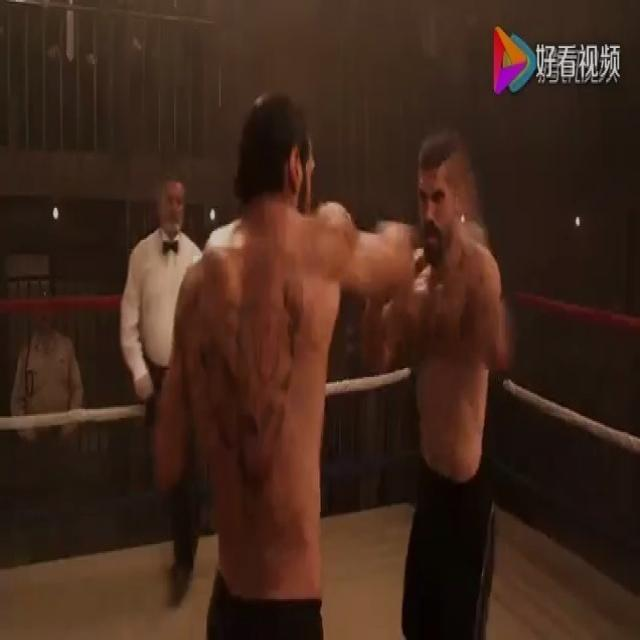fight: (152, 92, 522, 638)
